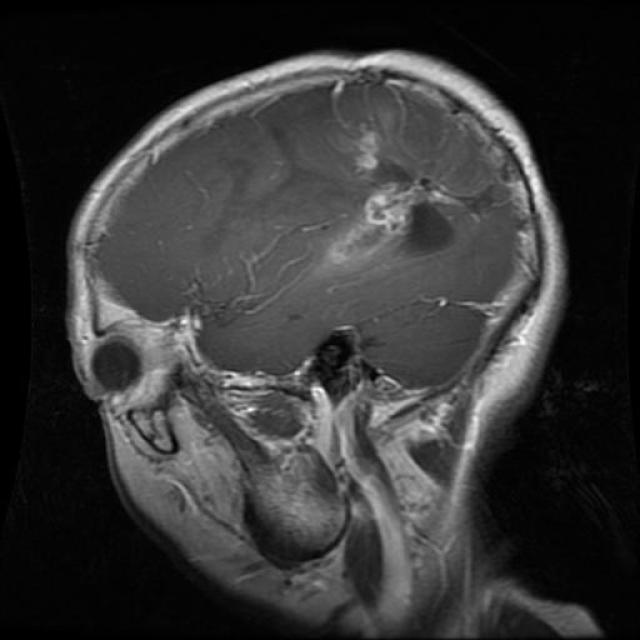brain_tumor: (402, 202, 454, 254)
